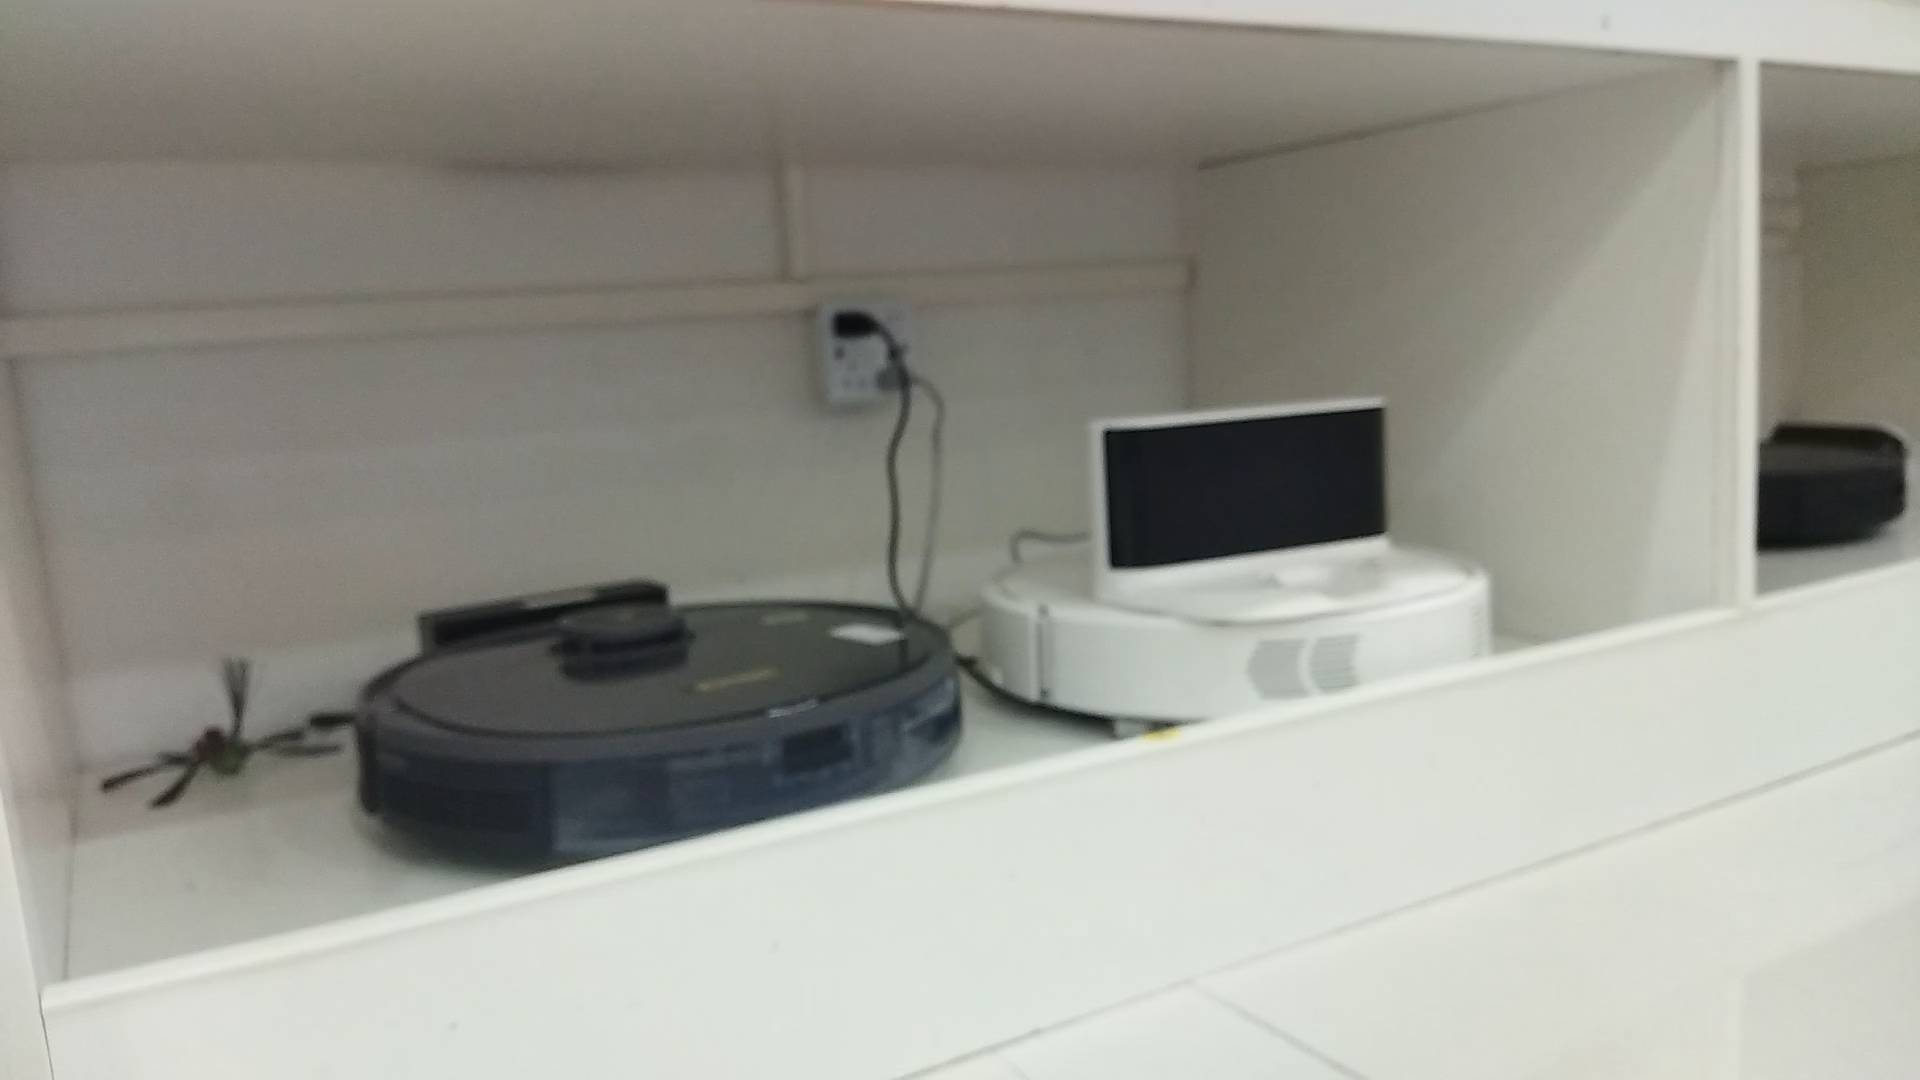recharge seat: (1087, 392, 1470, 622)
